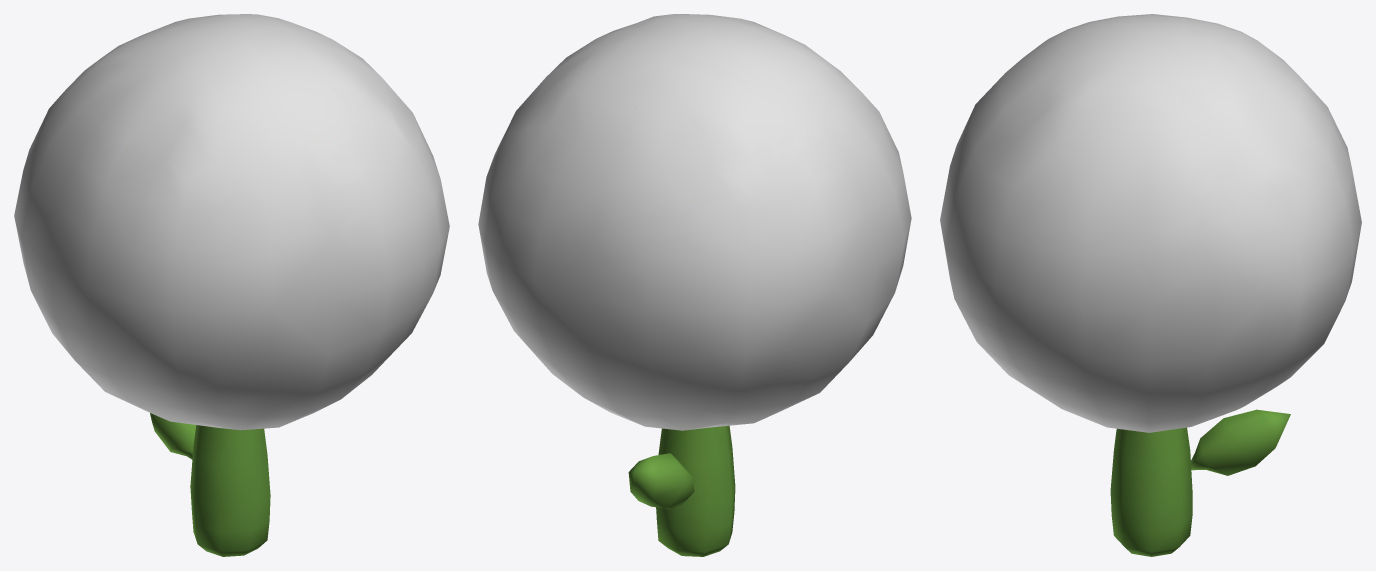
The model's file is 864bab62-8b84-40ce-b27d-008468985a77_model.glb.
3 renders of one model, left to right at view 1: azimuth 30°, elevation 25°; view 2: azimuth 150°, elevation 25°; view 3: azimuth 270°, elevation 25°, orthographic.
Visible parts, largest first — view 1: tripo_node_864bab62-8b84-40ce-b27d-008468985a77; view 2: tripo_node_864bab62-8b84-40ce-b27d-008468985a77; view 3: tripo_node_864bab62-8b84-40ce-b27d-008468985a77.
Boxes of the visible parts, bbox=[...] form: tripo_node_864bab62-8b84-40ce-b27d-008468985a77: bbox=[14, 14, 449, 556]; tripo_node_864bab62-8b84-40ce-b27d-008468985a77: bbox=[478, 14, 911, 556]; tripo_node_864bab62-8b84-40ce-b27d-008468985a77: bbox=[940, 14, 1361, 556].
Bounding box in the file's own units: 0.2237 × 0.3 × 0.2237.
Materials: 1 (1 with a texture image).
